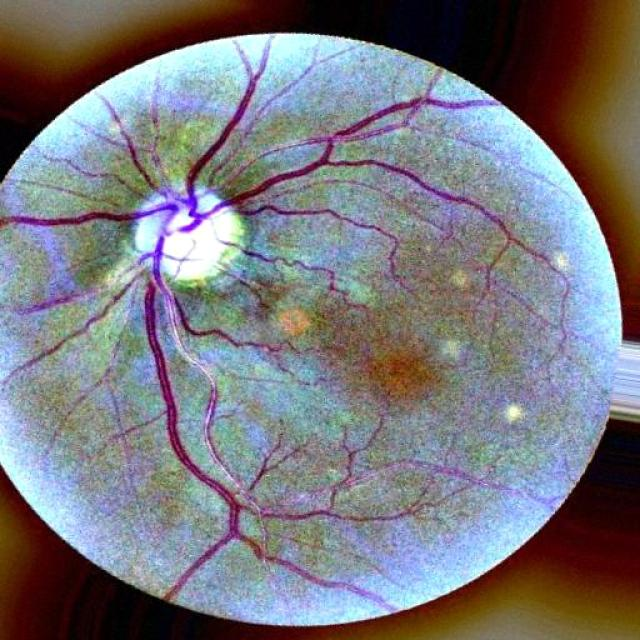Macula: (369, 338, 438, 401)
Optic Disk: (135, 178, 248, 285)
